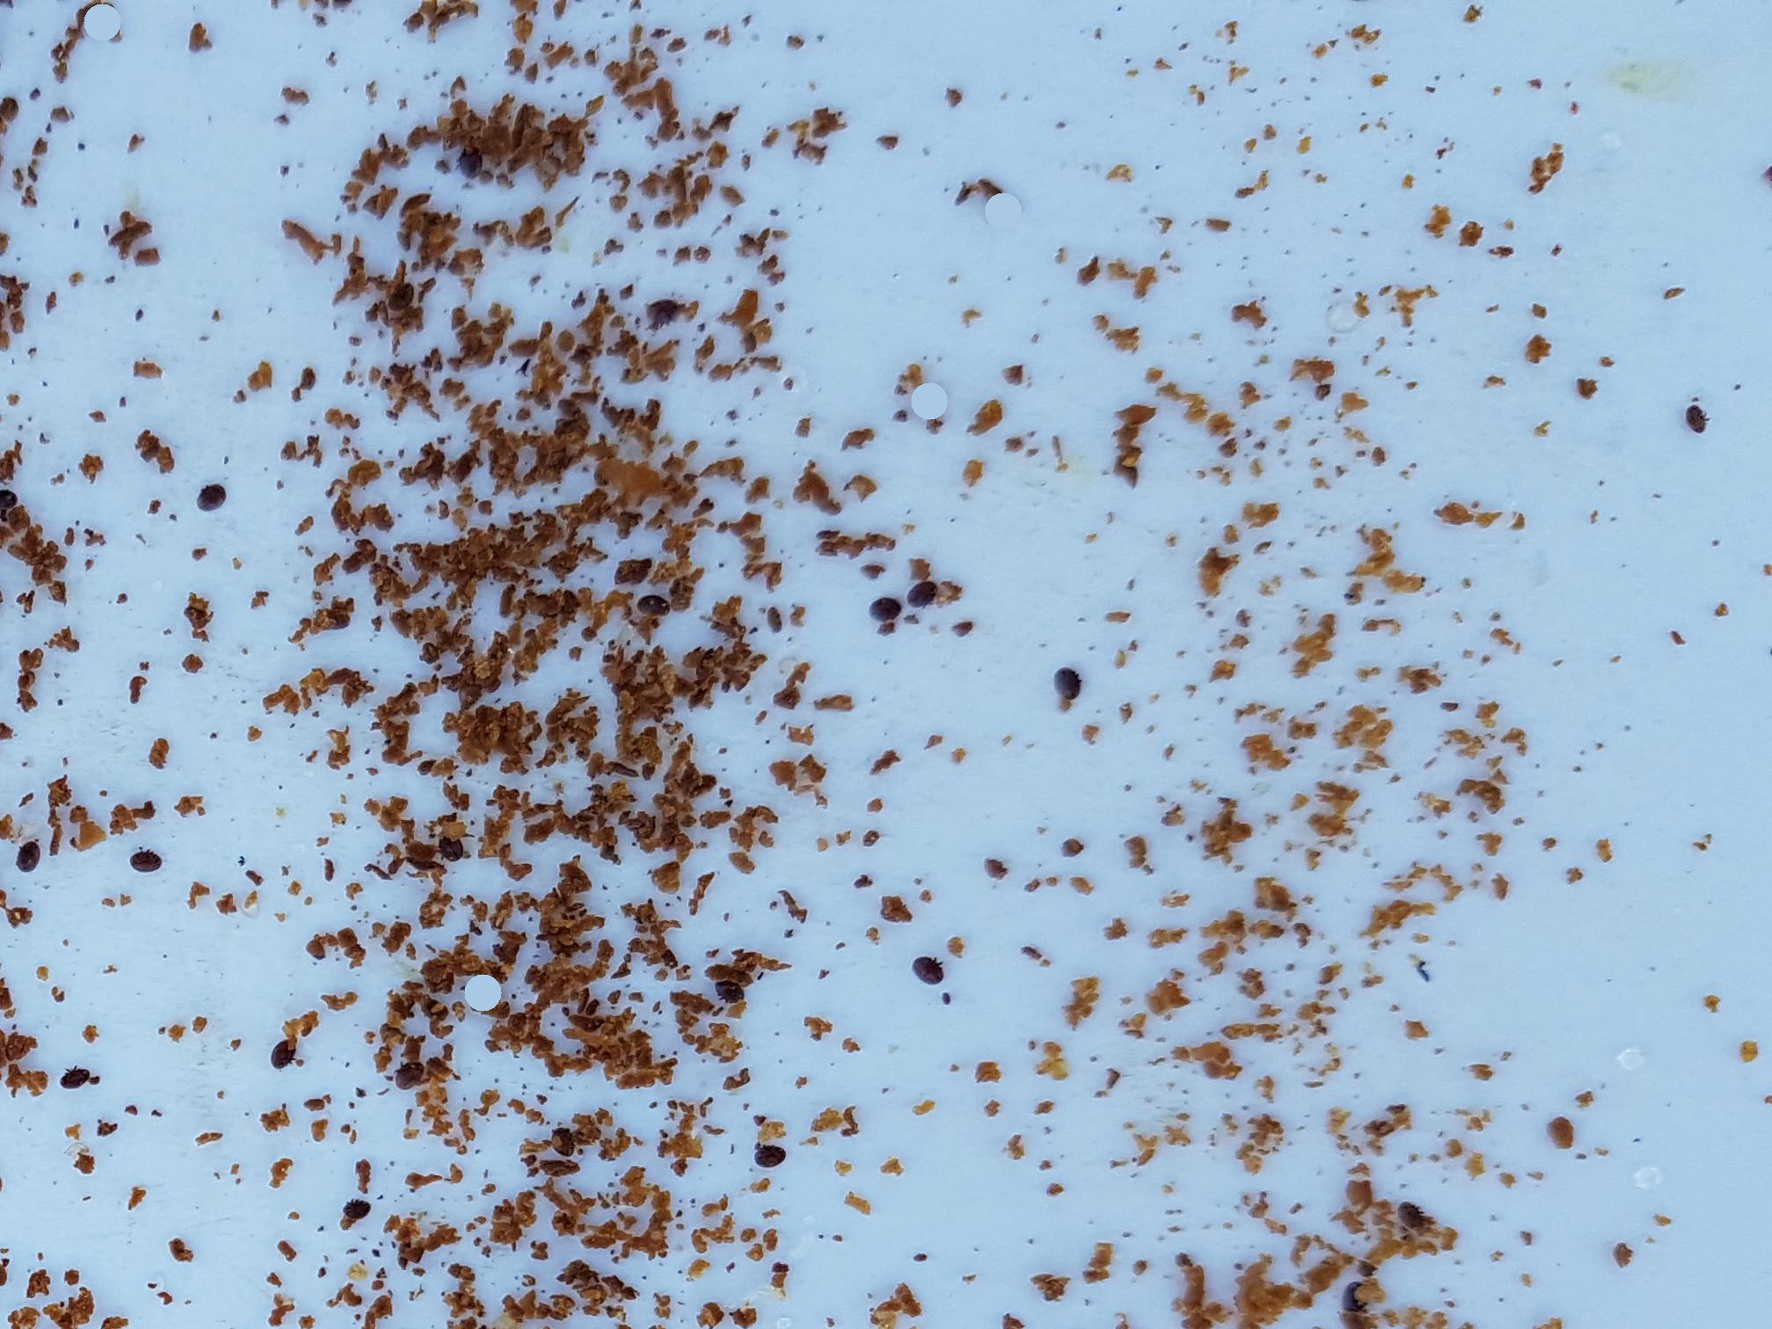Varroa: (380, 276, 419, 315), (635, 584, 674, 623), (1046, 663, 1086, 702), (543, 1124, 582, 1163), (1392, 1196, 1432, 1235), (451, 142, 488, 181), (642, 290, 681, 328), (435, 831, 467, 863), (864, 588, 894, 620), (911, 953, 942, 986), (338, 1194, 368, 1224), (393, 1060, 423, 1090), (265, 1043, 294, 1074), (11, 839, 40, 870), (198, 484, 227, 515), (712, 979, 741, 1008), (59, 1067, 87, 1096), (906, 579, 933, 609), (128, 852, 156, 879), (1680, 410, 1706, 438), (760, 1141, 787, 1167)
